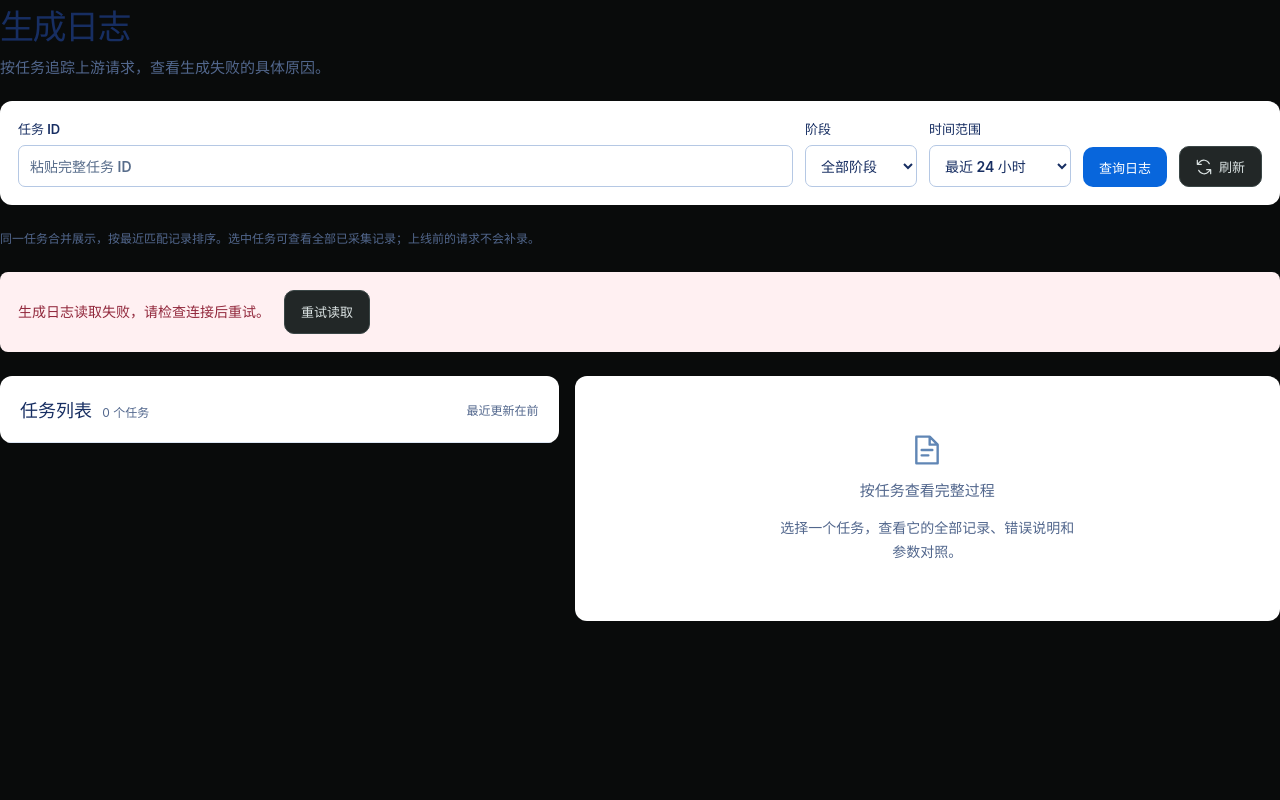
Scenario: reports list and detail errors with explicit retry controls and no stale evidence
The width and height of the screenshot is (1280, 800).
Expected: the message "生成日志读取失败，请检查连接后重试。 重试读取" is shown, [0,272,1279,352]
Step 1. Click the button "重试读取" → (327, 312), box [284,290,370,334]
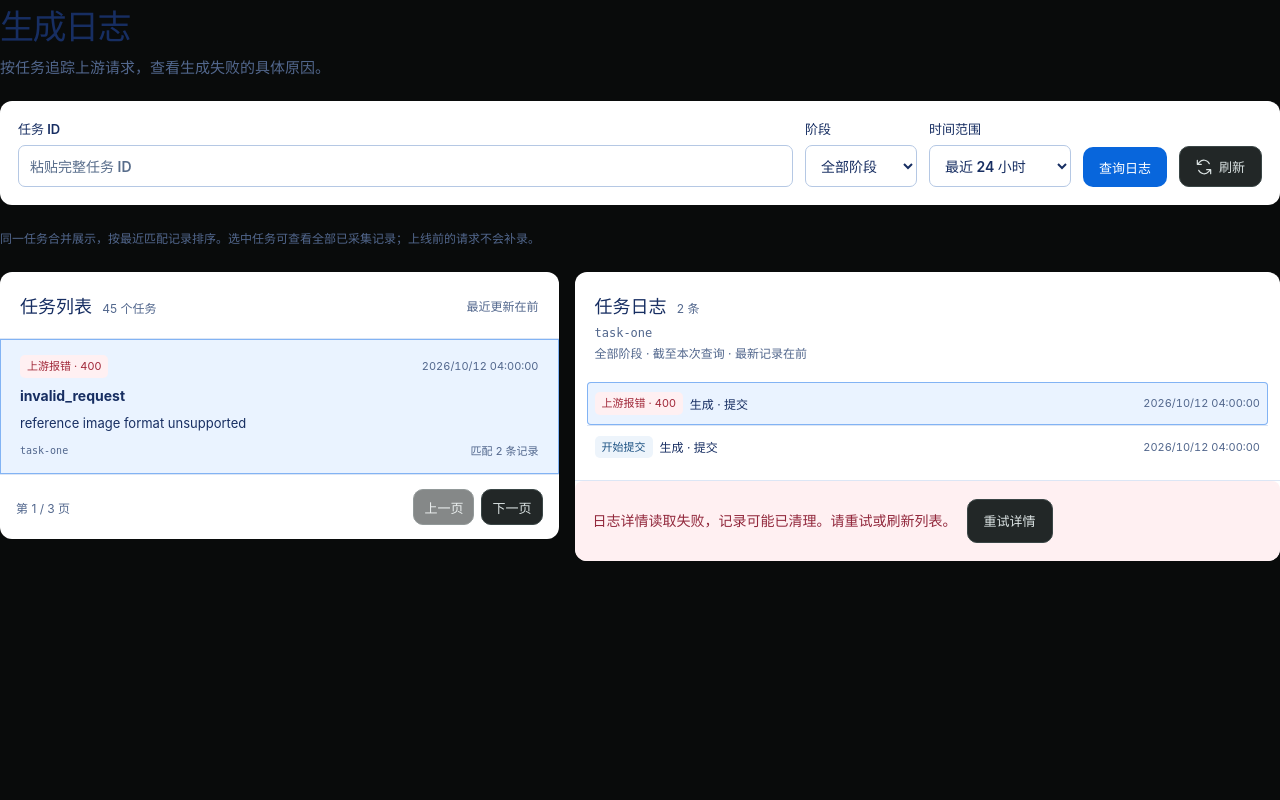
Result: the text "记录可能已清理" is shown at [592,512,956,529]
Step 2. Click the button "重试详情" → (1010, 521), box [966,499,1052,543]
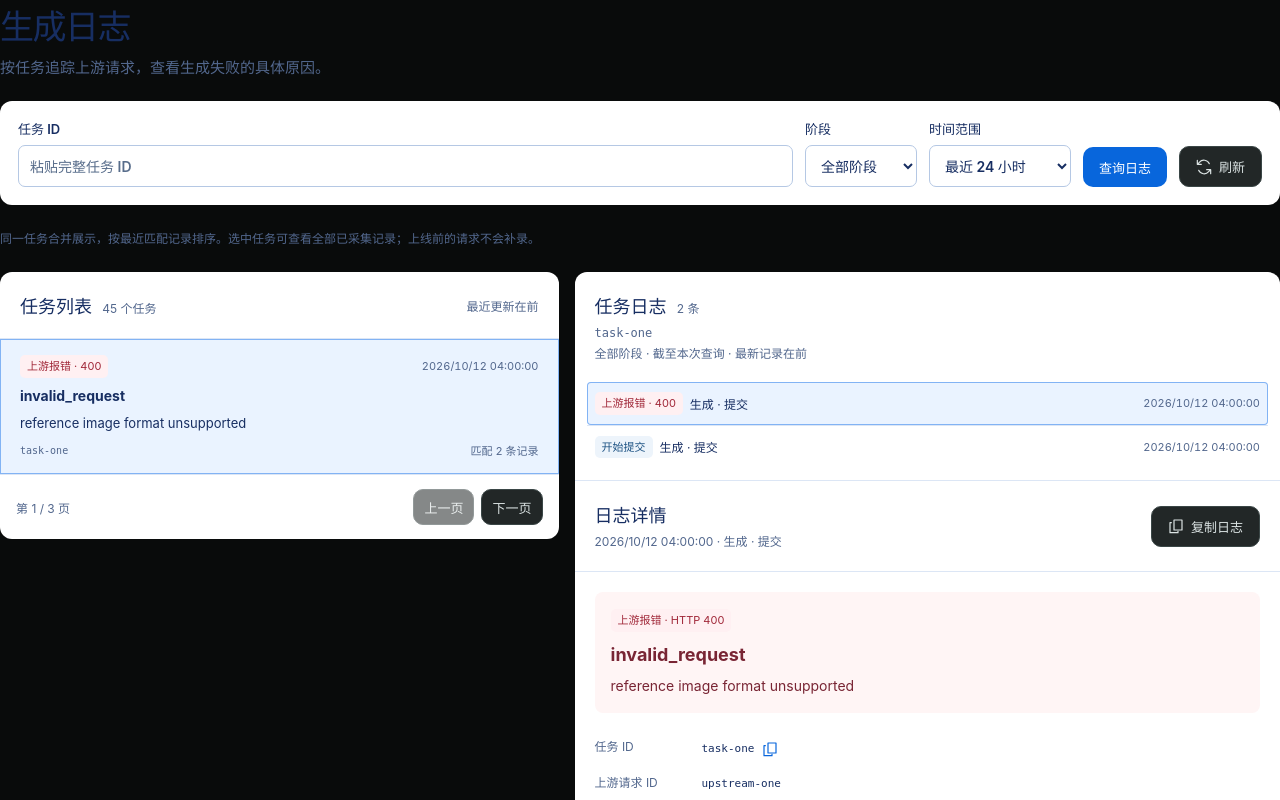
Result: the text "upstream-one" is shown at [702,778,781,790]
